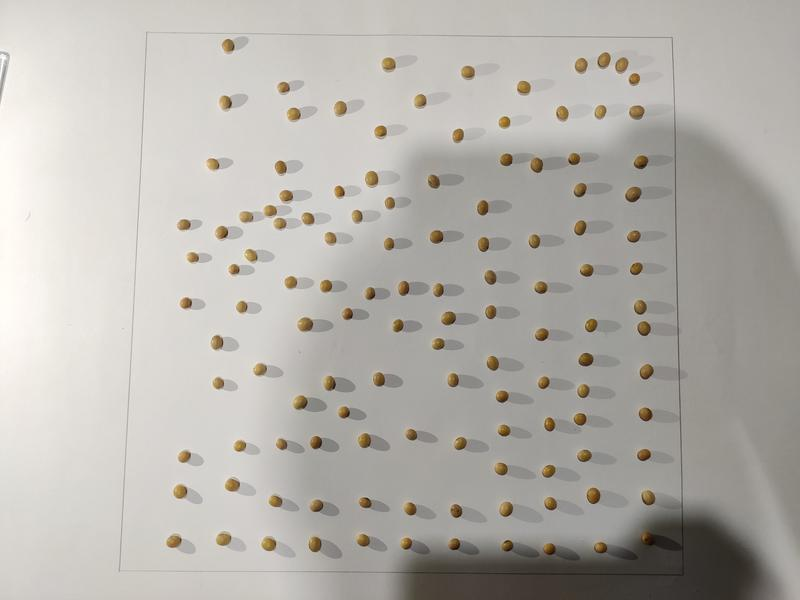Soybean: (569, 217, 593, 242), (639, 485, 659, 510), (450, 432, 471, 455), (538, 461, 560, 482), (294, 314, 315, 336), (636, 359, 656, 382), (161, 529, 184, 549), (483, 353, 502, 376), (315, 276, 336, 296), (225, 475, 244, 497), (271, 159, 294, 177), (422, 170, 441, 191), (169, 483, 190, 502), (332, 98, 350, 120), (633, 320, 655, 338), (624, 183, 644, 202), (495, 500, 516, 518), (554, 102, 571, 124), (473, 235, 492, 254), (632, 153, 652, 171), (369, 370, 389, 388), (597, 50, 613, 72), (515, 78, 533, 97), (628, 102, 646, 121), (577, 351, 596, 369), (584, 486, 602, 505), (382, 195, 400, 214), (321, 375, 339, 394), (306, 433, 325, 451), (542, 495, 561, 513), (613, 53, 630, 73), (638, 406, 655, 426), (175, 295, 195, 312), (352, 531, 372, 548), (576, 382, 594, 400), (575, 445, 594, 462), (281, 274, 300, 291), (495, 422, 514, 439), (494, 385, 511, 404), (306, 536, 325, 553), (541, 541, 560, 558), (380, 55, 396, 75), (528, 155, 544, 175), (241, 247, 261, 263), (591, 539, 611, 555), (250, 363, 271, 378), (583, 316, 600, 334), (532, 325, 549, 343), (300, 211, 318, 228), (208, 335, 226, 352), (444, 371, 462, 388), (284, 107, 303, 123), (449, 124, 465, 143), (577, 262, 596, 278), (541, 414, 557, 433), (290, 395, 309, 411), (633, 297, 648, 317), (173, 449, 194, 463), (410, 92, 427, 109), (429, 281, 446, 298), (370, 122, 388, 138), (427, 228, 445, 244), (532, 277, 548, 295), (363, 284, 379, 302), (447, 503, 465, 519), (637, 530, 655, 546), (498, 150, 513, 169), (350, 207, 365, 226), (397, 278, 412, 297), (439, 310, 458, 325), (402, 501, 421, 516), (217, 94, 233, 111), (205, 155, 221, 172), (593, 104, 609, 121), (567, 150, 583, 167), (364, 170, 380, 187), (380, 236, 396, 253), (356, 433, 372, 450), (216, 532, 233, 548), (355, 496, 373, 511), (527, 233, 541, 252), (277, 188, 296, 202), (175, 218, 194, 232), (483, 269, 499, 285), (220, 38, 237, 53), (461, 63, 476, 80), (636, 447, 653, 462), (628, 70, 642, 88), (275, 438, 289, 456), (260, 538, 278, 552), (572, 411, 588, 426), (536, 375, 552, 390), (340, 306, 356, 321), (477, 199, 491, 216), (272, 216, 289, 230), (262, 204, 279, 218), (627, 262, 645, 275), (238, 209, 256, 222), (212, 225, 230, 238), (234, 300, 252, 313), (402, 429, 420, 442), (233, 440, 251, 453), (493, 462, 511, 475), (183, 252, 204, 263), (483, 305, 498, 320), (497, 116, 513, 130), (574, 57, 588, 73), (309, 499, 325, 513), (447, 536, 461, 552), (430, 338, 447, 351), (277, 81, 292, 95), (627, 230, 643, 243), (574, 183, 588, 197), (391, 319, 405, 333), (400, 537, 414, 551), (500, 540, 516, 552), (266, 496, 283, 507), (324, 231, 337, 245), (211, 377, 225, 390), (334, 186, 347, 198), (338, 405, 351, 417), (227, 264, 241, 275)
